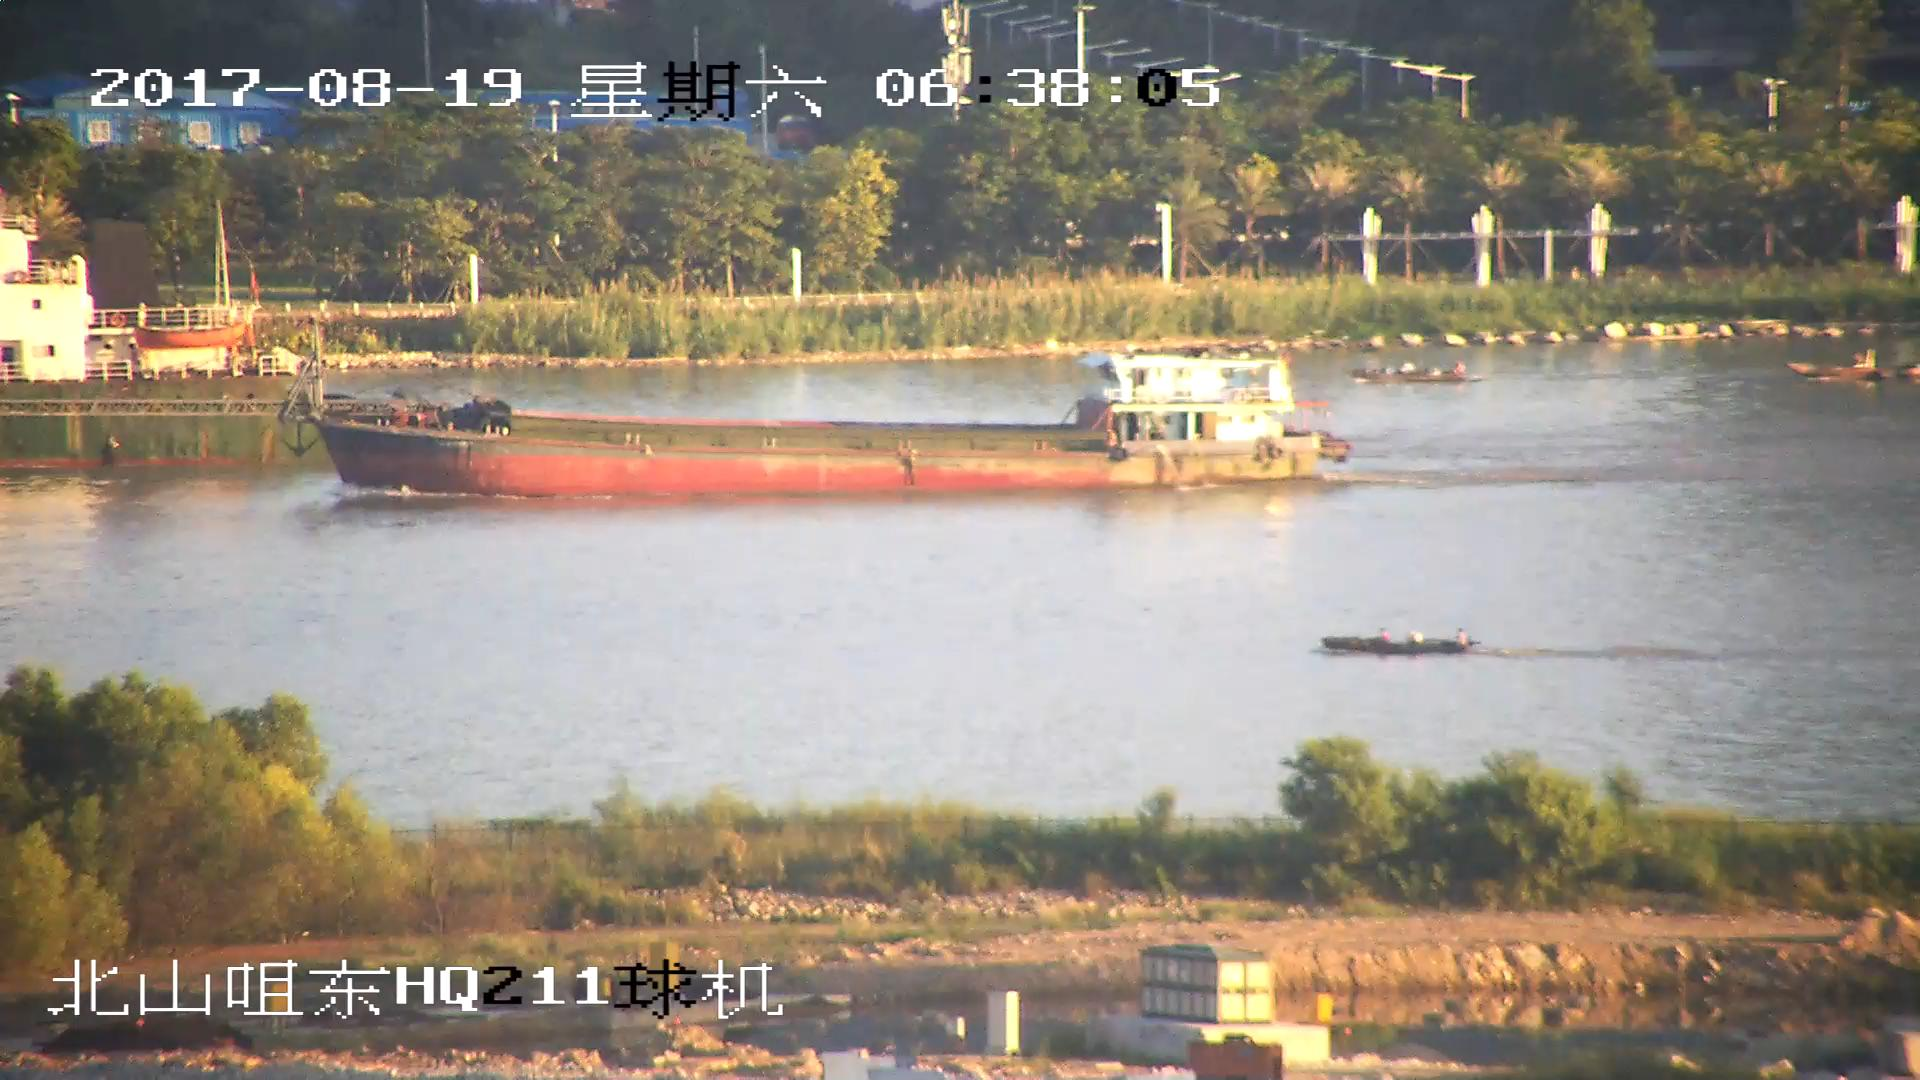bulk cargo carrier: (287, 352, 1351, 494)
fishing boat: (1328, 622, 1485, 658), (1787, 356, 1920, 382), (1360, 363, 1464, 388)
general cargo ship: (1, 212, 285, 465)
